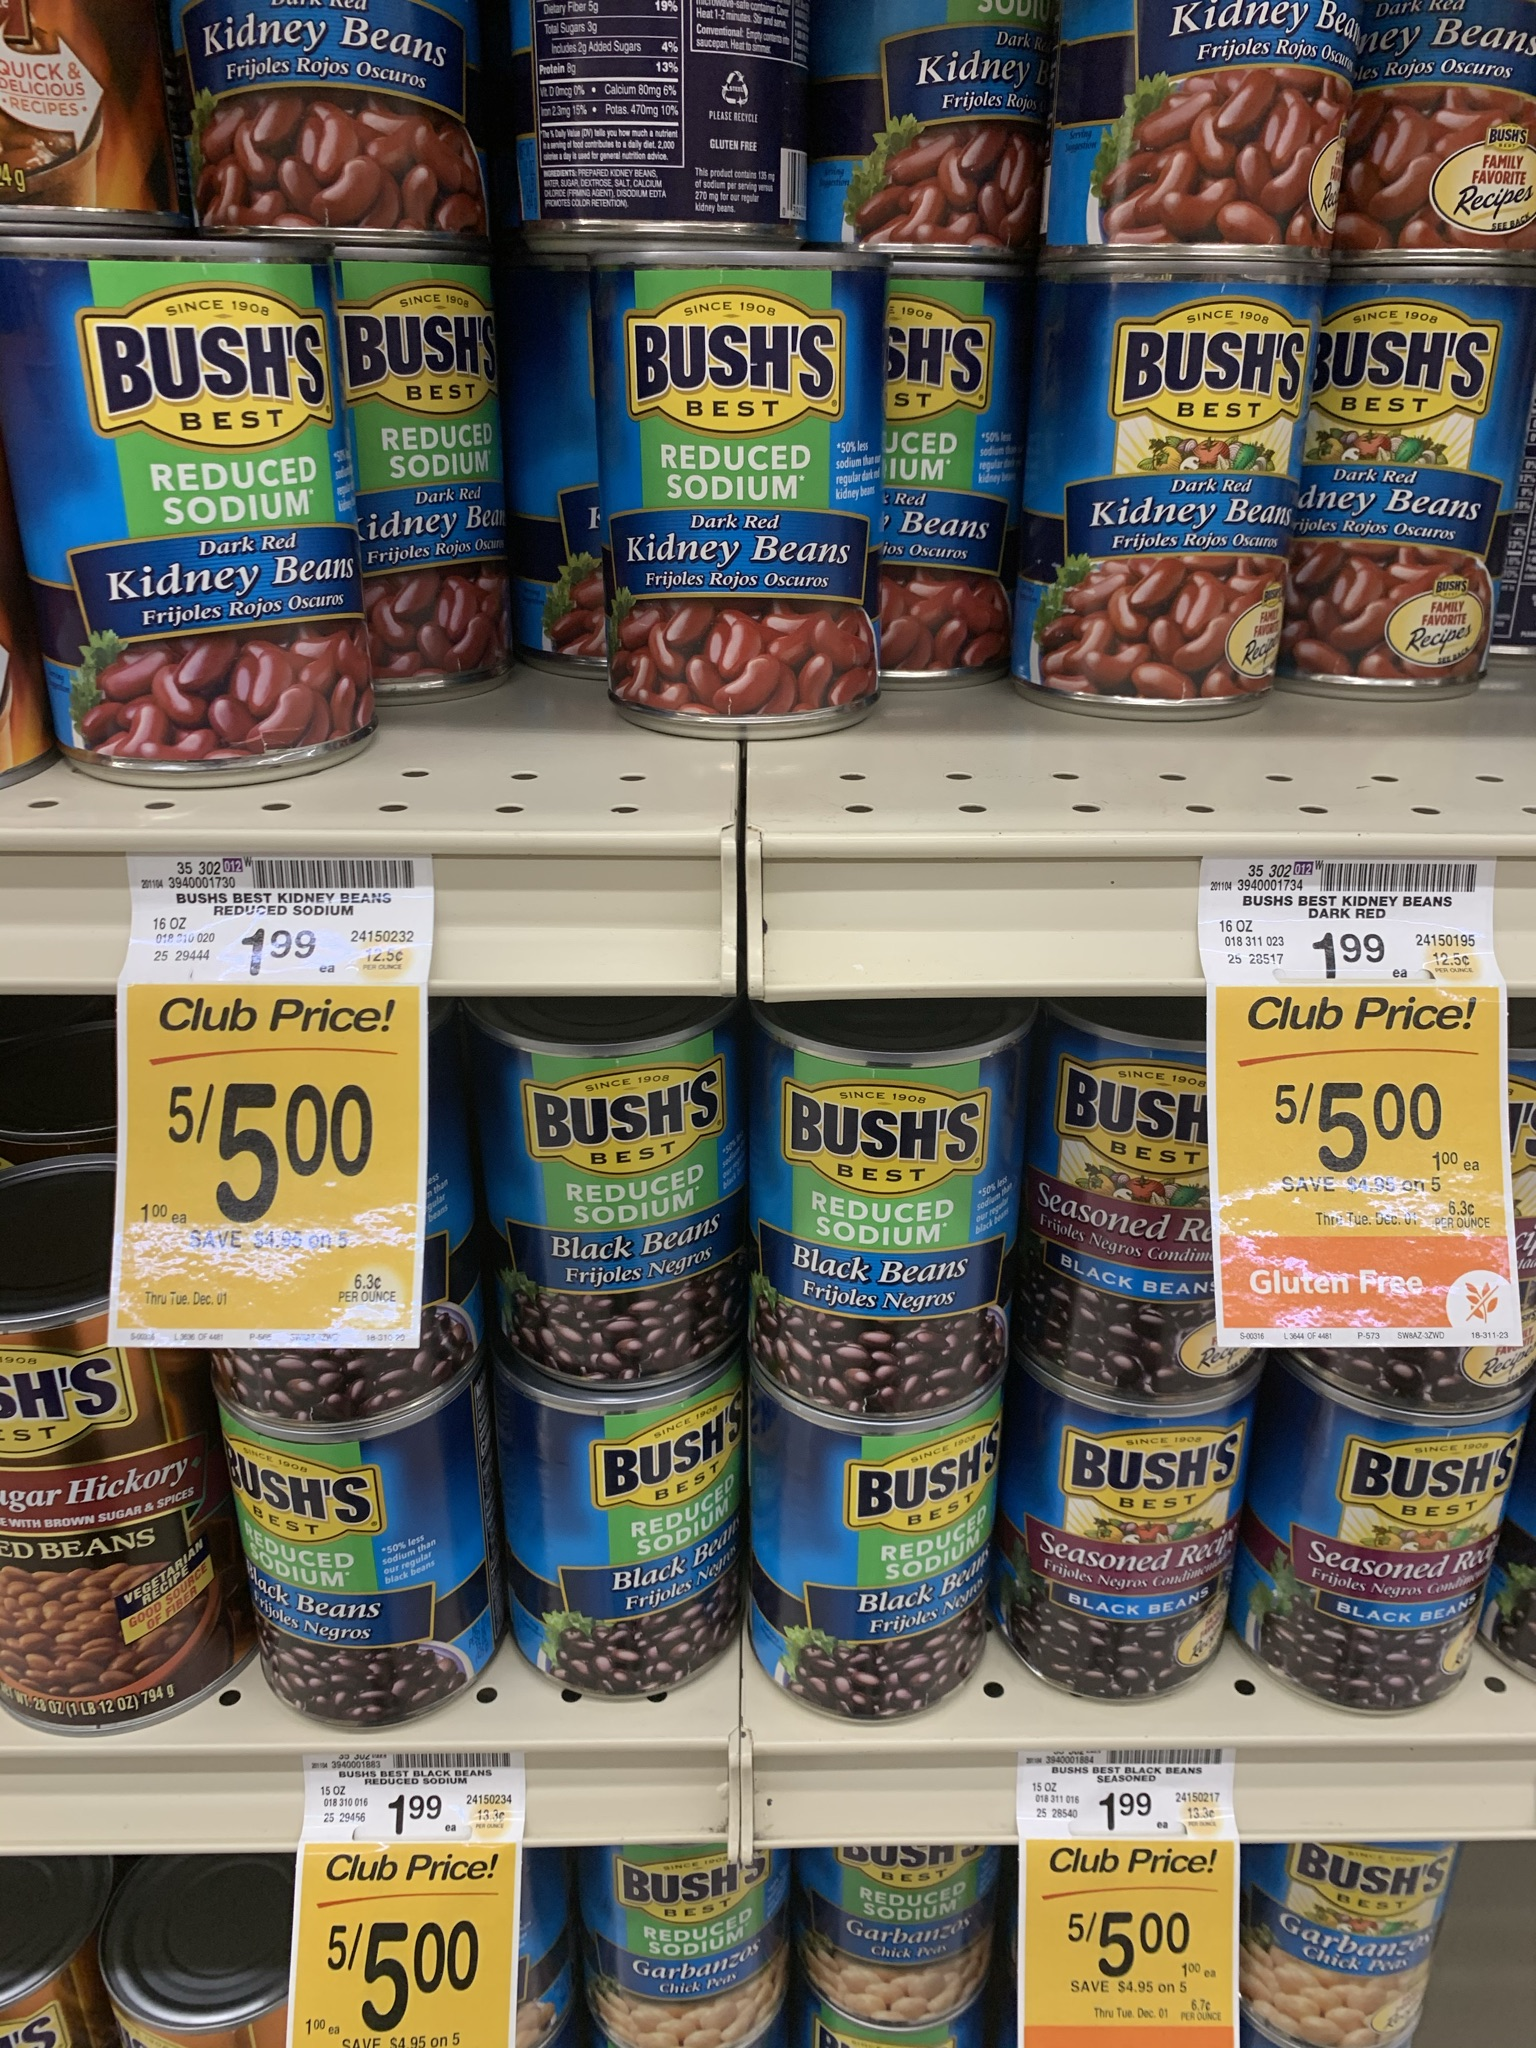can: (2, 235, 374, 789), (594, 247, 887, 732), (1021, 260, 1309, 718), (752, 1021, 1018, 1422), (479, 1026, 744, 1400), (211, 1429, 490, 1738), (1271, 1397, 1521, 1721), (753, 1414, 1004, 1729), (497, 1395, 745, 1700), (1013, 1409, 1260, 1709)
